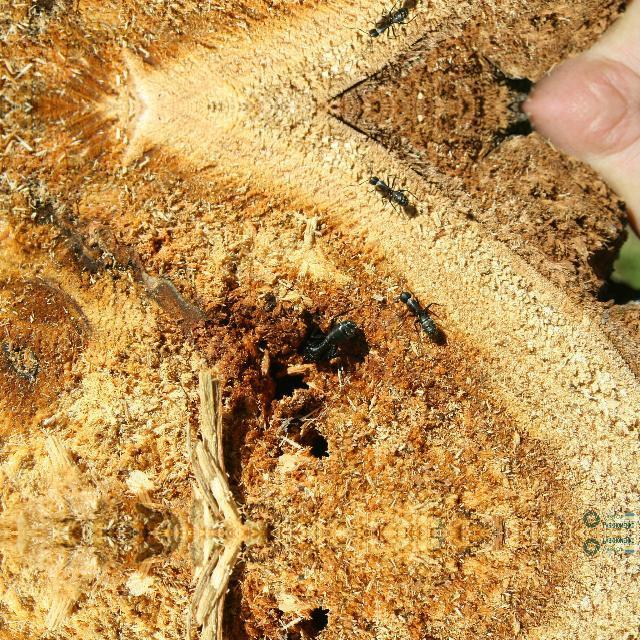Camponotus: (297, 302, 365, 366), (356, 162, 422, 210), (356, 2, 422, 50), (396, 280, 444, 340)
